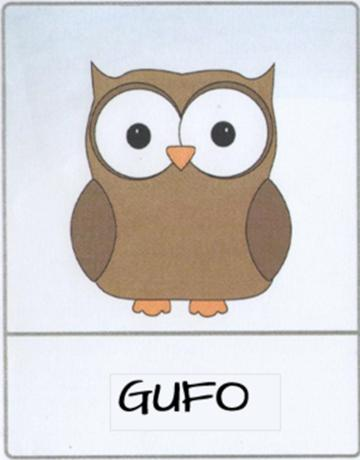gufo: (3, 1, 360, 460)
